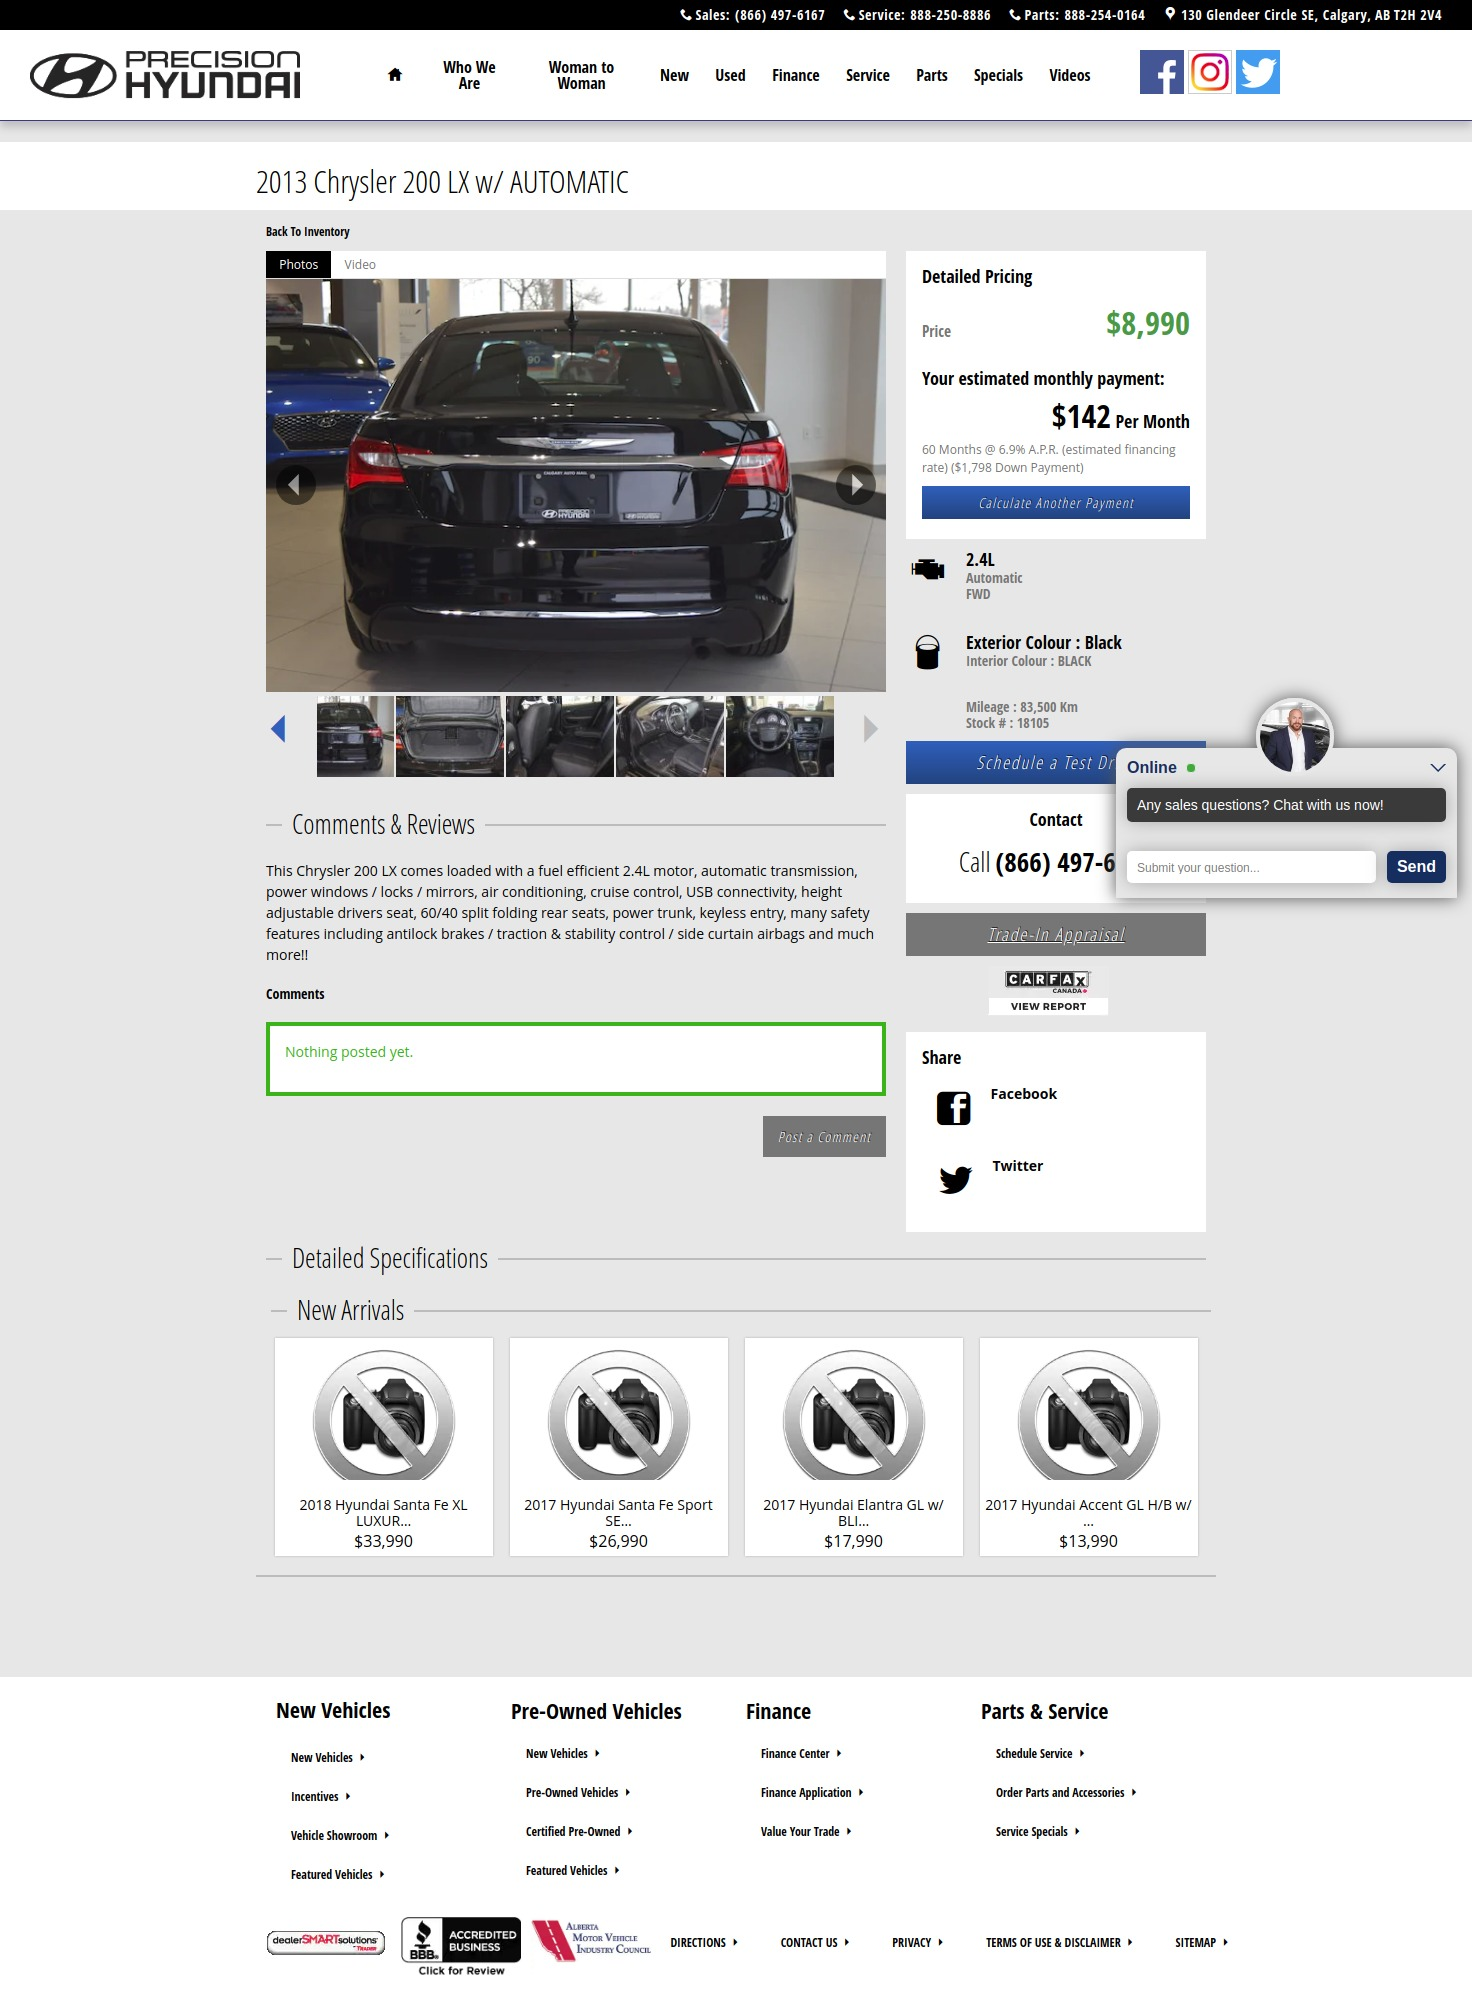car: (864, 714, 881, 745)
